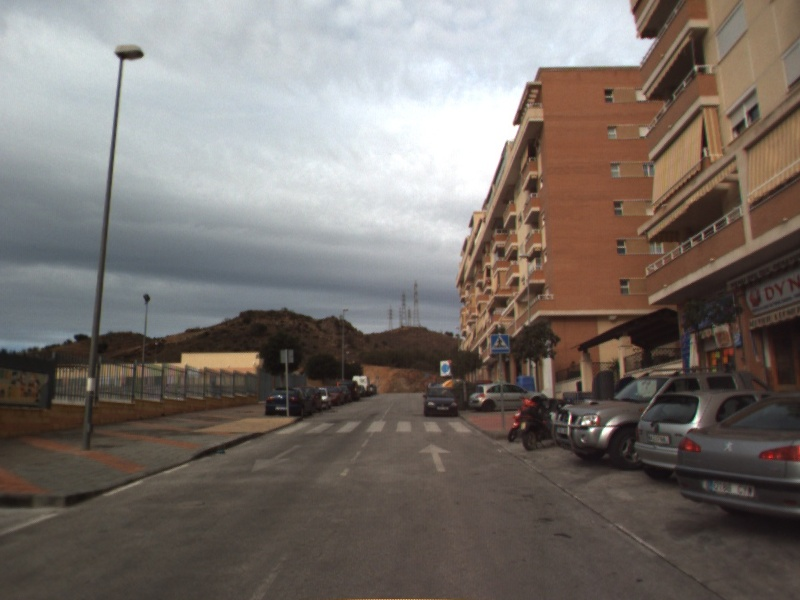STRAIGHT: (416, 441, 453, 474)
